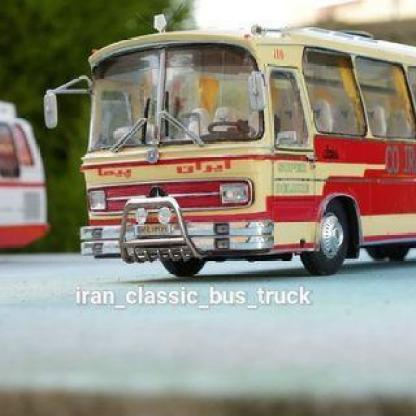Bus: (48, 13, 416, 290), (0, 94, 55, 264)
